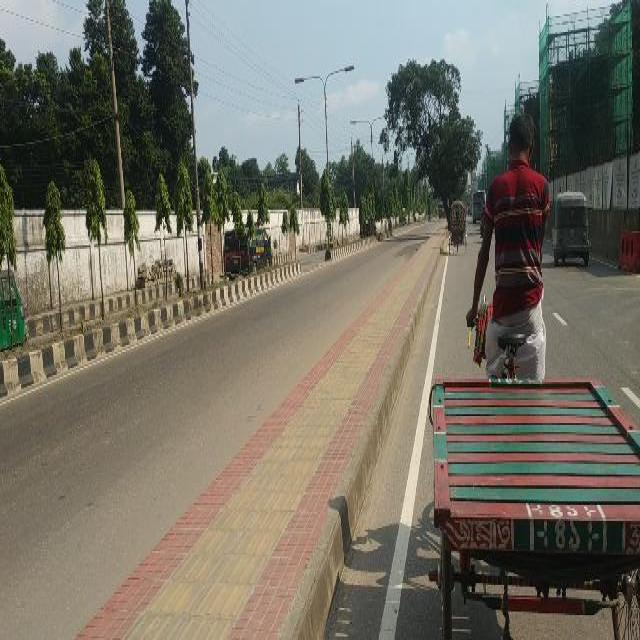ambulance: (222, 225, 272, 273)
bus: (470, 188, 486, 220)
rickshaw: (447, 198, 468, 255)
three wheelers -CNG-: (550, 189, 590, 263)
wheelbarrow: (428, 373, 638, 619)
